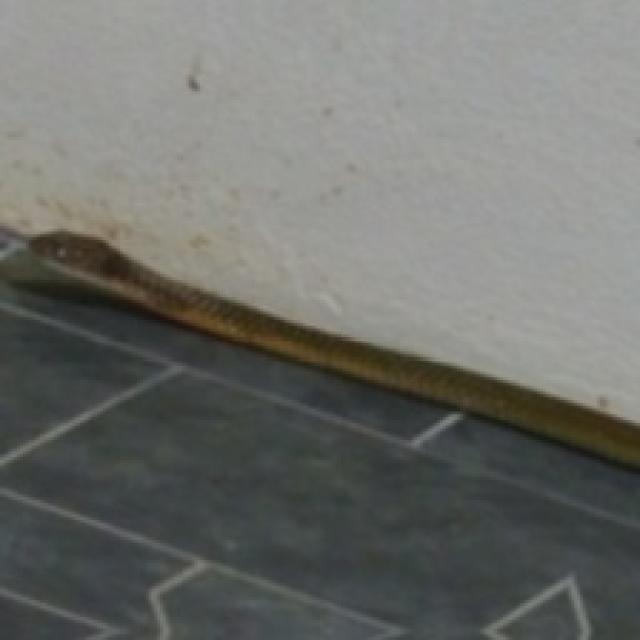king cobra: (29, 231, 637, 469), (29, 231, 637, 466)
